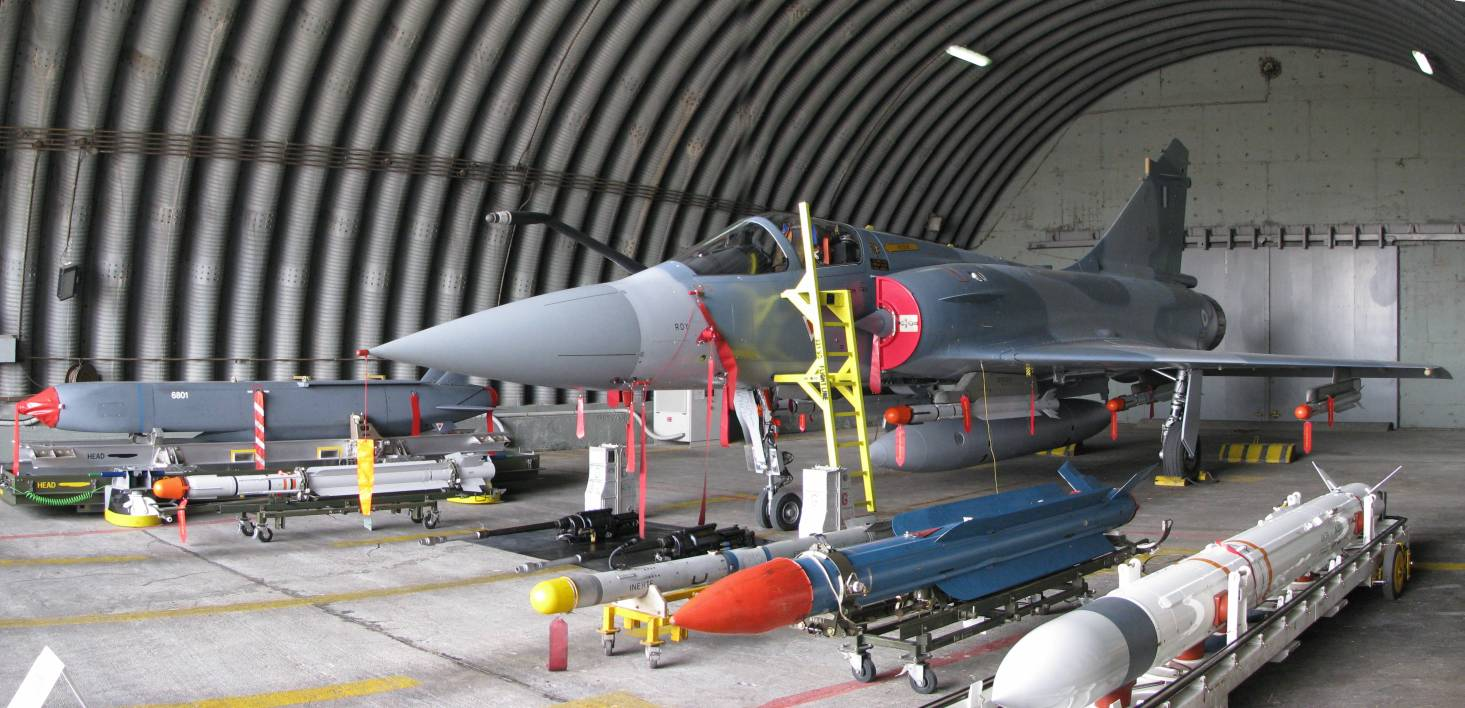Mirage2000: (354, 134, 1453, 529)
